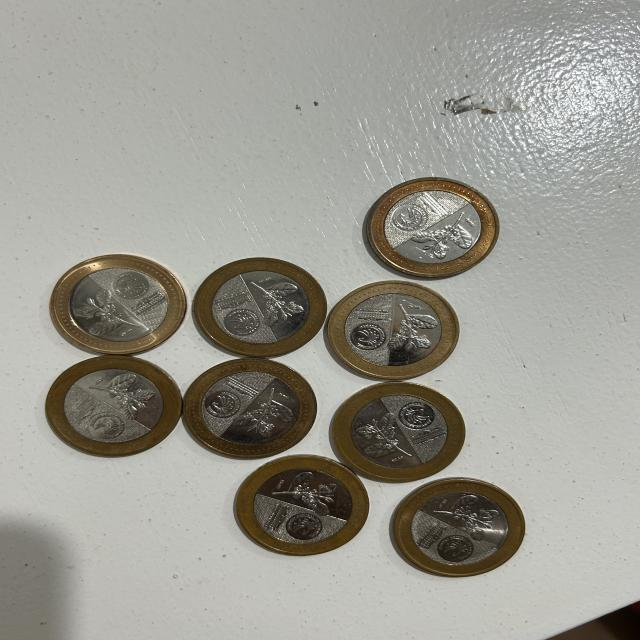20_New_Back: (69, 290, 136, 334), (93, 375, 160, 419), (236, 387, 292, 439), (384, 299, 431, 359), (410, 213, 474, 255), (275, 474, 340, 514), (442, 496, 497, 542), (253, 277, 299, 328), (361, 412, 414, 456)
